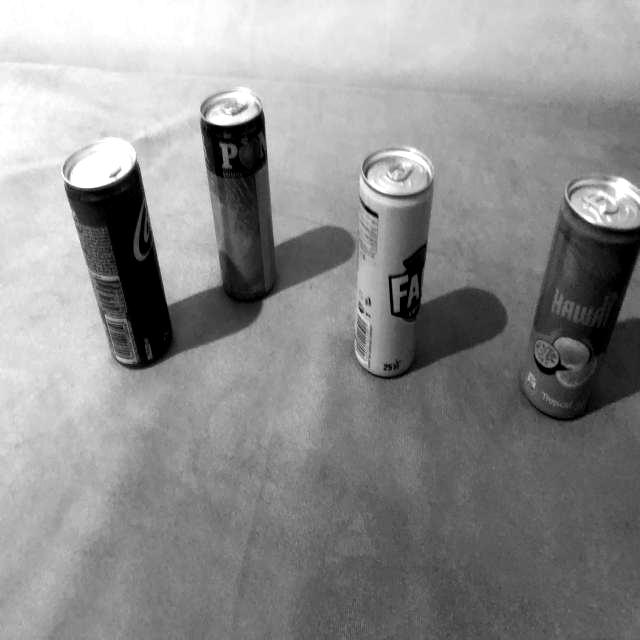metal: (515, 166, 640, 433), (56, 133, 180, 374), (351, 130, 439, 391), (194, 85, 285, 310)
